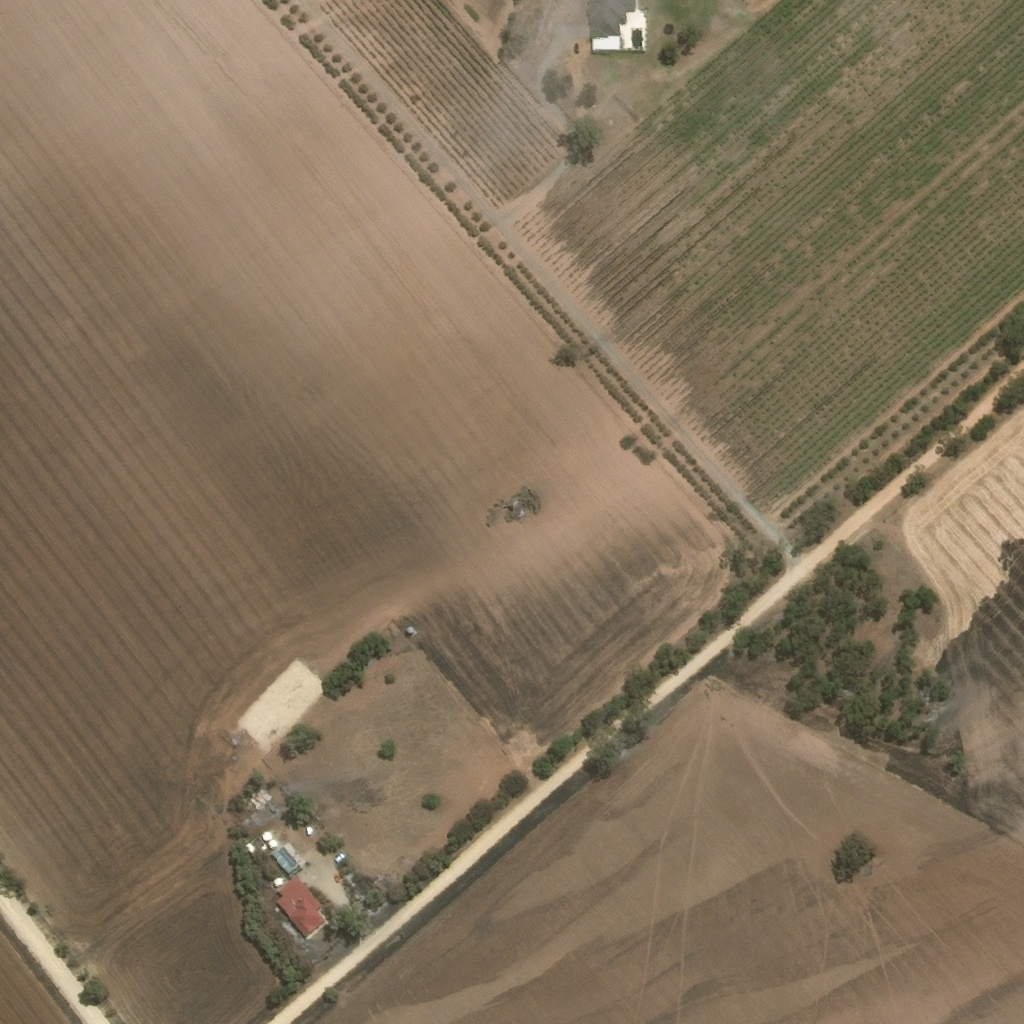0 no-damage: (277, 874, 333, 938), (272, 845, 300, 874), (240, 789, 268, 817), (244, 843, 257, 855), (273, 876, 284, 887), (267, 839, 277, 849), (262, 832, 271, 841), (408, 625, 415, 632)
